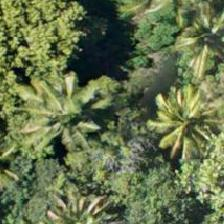coconut_tree: (75, 54, 165, 144), (143, 80, 223, 170), (159, 0, 223, 78)
